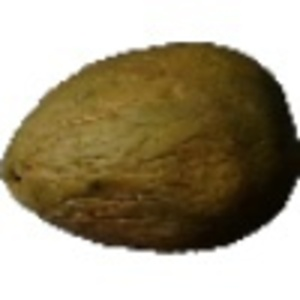mamão: (5, 36, 295, 263)
